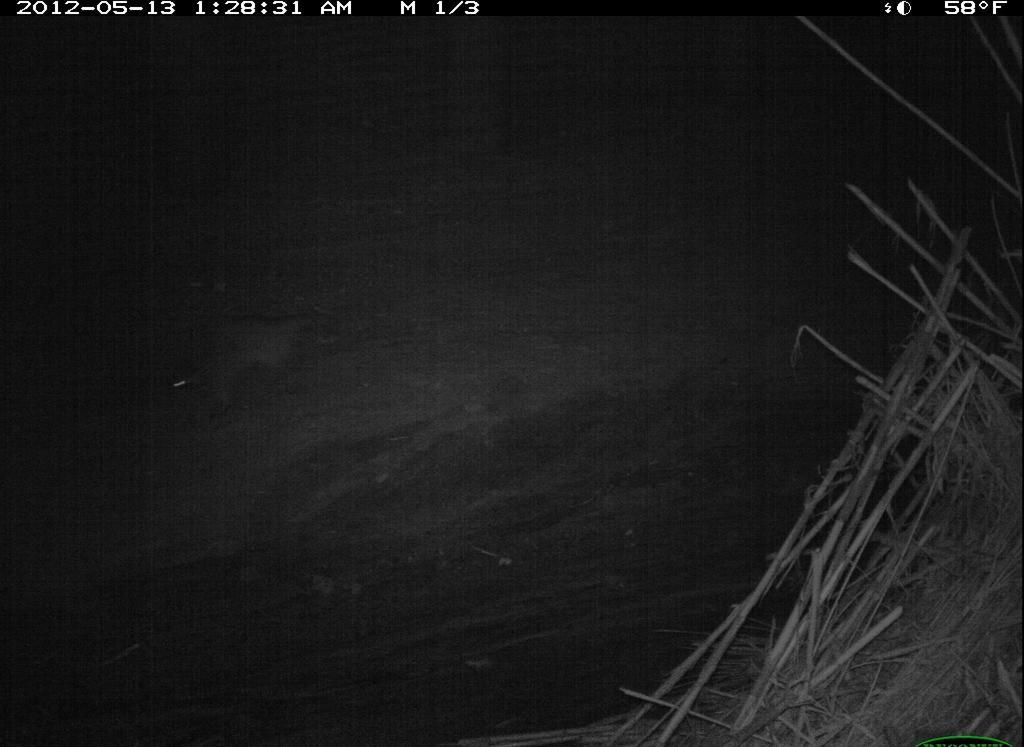raccoon: (159, 304, 342, 411)
